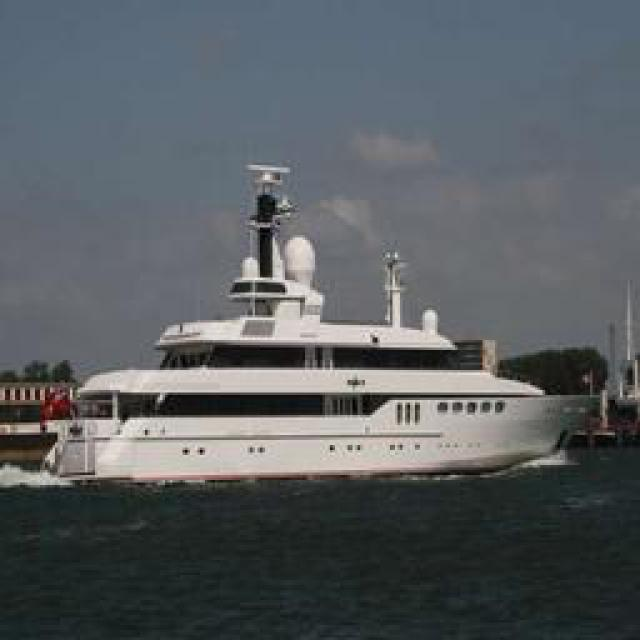Ship: (44, 160, 584, 478)
